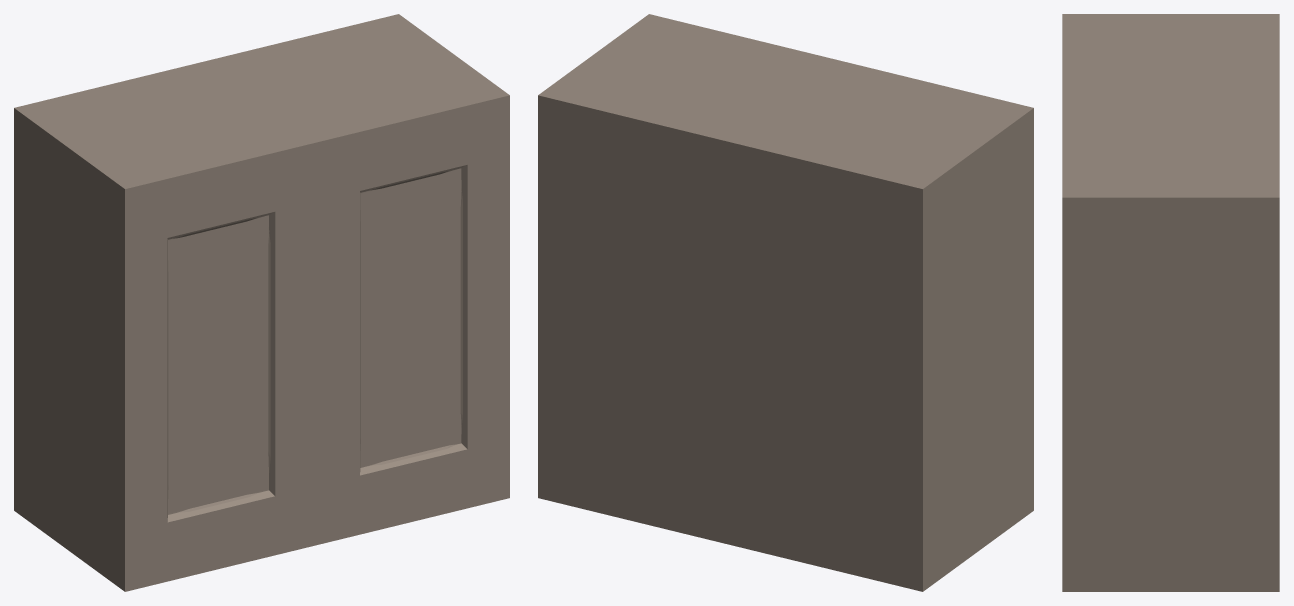
Rendered from Wall-Cabinet-18-High-12-Deep_std_001_H24in_onlyH.glb.
3 renders of one model, left to right at view 1: azimuth 30°, elevation 25°; view 2: azimuth 150°, elevation 25°; view 3: azimuth 270°, elevation 25°, orthographic. The views are drawn at different scales.
Visible parts, largest first — view 1: Wall-Cabinet-18-High-12-Deep.std.001_H24in_onlyH; view 2: Wall-Cabinet-18-High-12-Deep.std.001_H24in_onlyH; view 3: Wall-Cabinet-18-High-12-Deep.std.001_H24in_onlyH.
Boxes of the visible parts, left/top/right/bottom form: Wall-Cabinet-18-High-12-Deep.std.001_H24in_onlyH: left=14, top=14, right=509, bottom=591; Wall-Cabinet-18-High-12-Deep.std.001_H24in_onlyH: left=538, top=14, right=1033, bottom=591; Wall-Cabinet-18-High-12-Deep.std.001_H24in_onlyH: left=1062, top=14, right=1279, bottom=591.
Size of the model in its own units: 0.6096 by 0.6096 by 0.3048.
